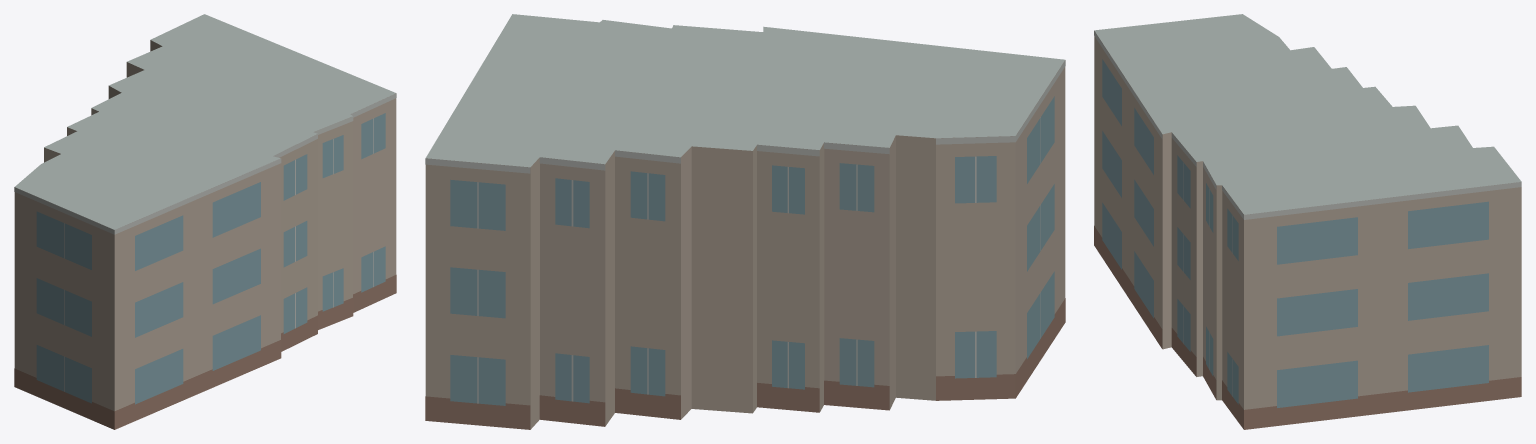
File: survey-upis-32579959.glb
3 renders of one model, left to right at view 1: azimuth 30°, elevation 25°; view 2: azimuth 150°, elevation 25°; view 3: azimuth 270°, elevation 25°, orthographic. The views are drawn at different scales.
Parts seen in each view (by area): view 1: survey-upis-32579959.tmp; view 2: survey-upis-32579959.tmp; view 3: survey-upis-32579959.tmp.
Boxes of the visible parts, box(x1,y1,x2,y2) form: survey-upis-32579959.tmp: box(14, 14, 396, 429); survey-upis-32579959.tmp: box(425, 14, 1065, 429); survey-upis-32579959.tmp: box(1094, 14, 1521, 429).
Bounding box in the file's own units: 20.24 × 10.1 × 18.21.
